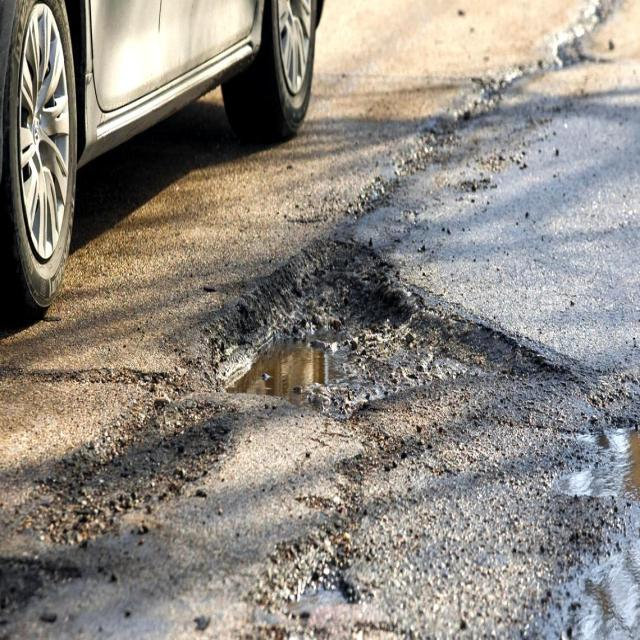pothole: (210, 245, 423, 408)
